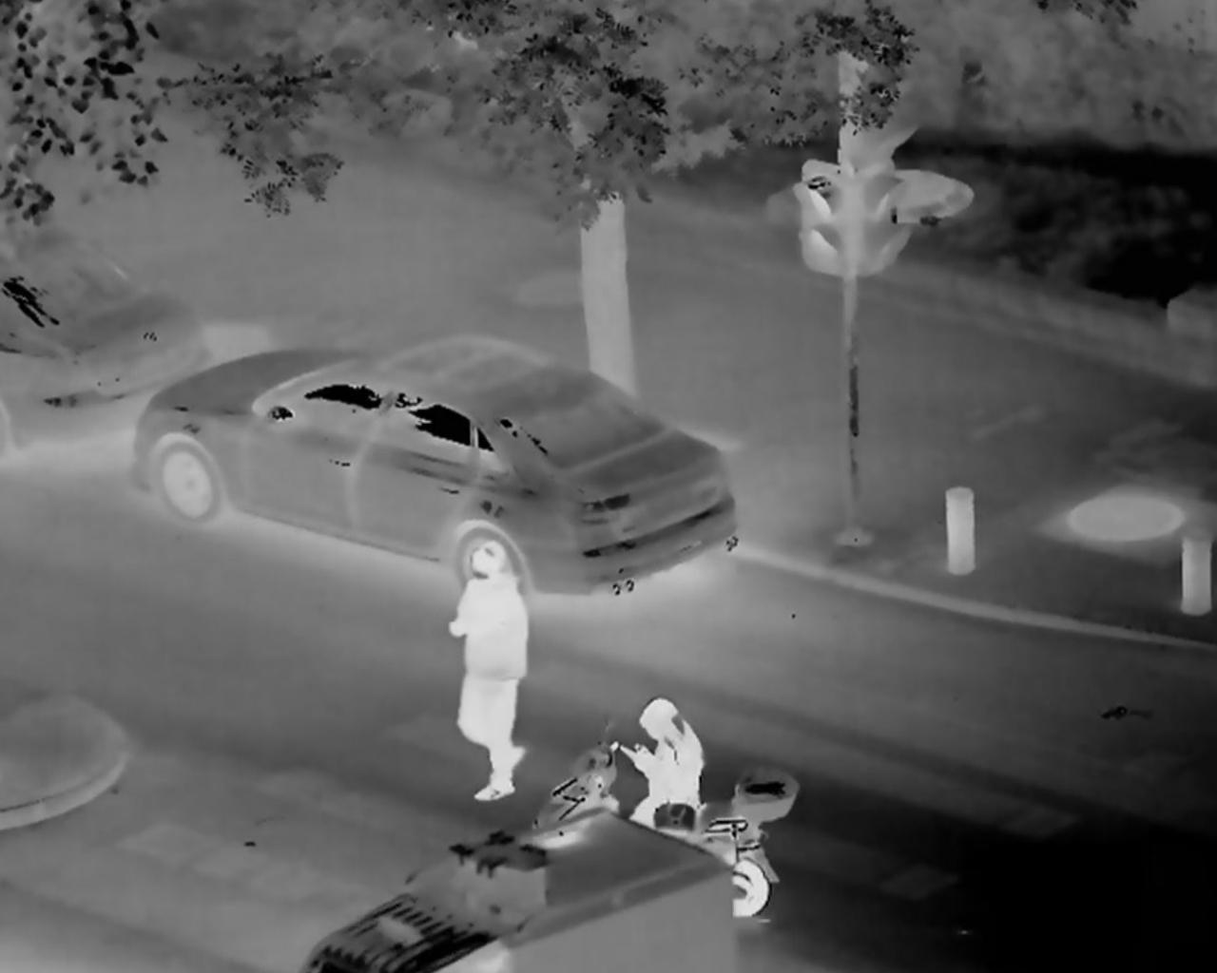person: (445, 543, 529, 796), (624, 699, 704, 855)
